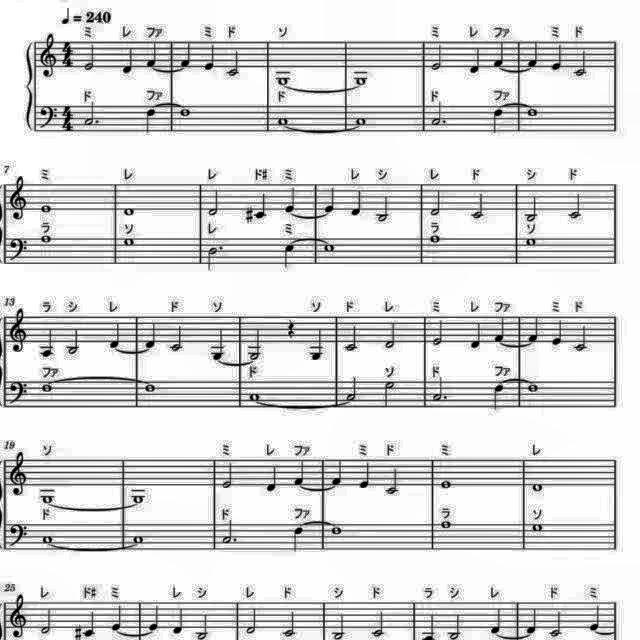Bass-clef: (6, 520, 30, 550), (6, 236, 30, 264), (7, 378, 30, 407), (36, 102, 59, 130)
Diez: (242, 204, 254, 224), (71, 622, 83, 640)
Full-note: (37, 377, 54, 395), (351, 71, 369, 87), (140, 380, 158, 396), (128, 491, 148, 505), (38, 492, 58, 504), (37, 202, 54, 216), (439, 478, 455, 492), (529, 481, 545, 495), (320, 240, 336, 254), (176, 105, 192, 119), (523, 235, 539, 249), (524, 105, 540, 119), (439, 518, 455, 532), (275, 74, 293, 86), (130, 532, 148, 544), (38, 532, 56, 544), (329, 524, 346, 536), (524, 382, 540, 394), (122, 206, 138, 218), (275, 114, 291, 126), (37, 232, 53, 244), (246, 390, 262, 402), (530, 522, 546, 534), (352, 114, 368, 126), (122, 236, 138, 248), (426, 234, 442, 246)
Half-dot: (204, 245, 226, 275), (428, 98, 448, 130), (219, 518, 239, 546), (431, 376, 449, 404), (82, 98, 98, 126)
Half-note: (469, 190, 489, 222), (246, 328, 264, 362), (564, 191, 584, 221), (374, 193, 394, 223), (383, 466, 401, 498), (370, 608, 388, 640), (37, 606, 54, 638), (523, 193, 541, 223), (168, 325, 186, 355), (343, 323, 361, 353), (428, 42, 444, 74), (84, 42, 100, 74), (331, 612, 349, 640), (280, 244, 298, 272), (380, 321, 396, 352), (206, 188, 222, 218), (548, 609, 564, 639), (220, 459, 236, 489), (244, 607, 260, 637), (382, 379, 398, 409), (572, 325, 588, 355), (428, 188, 444, 218), (344, 374, 361, 402), (225, 50, 242, 78), (66, 326, 82, 354), (430, 320, 446, 348), (572, 50, 588, 78), (196, 612, 212, 640), (448, 612, 464, 640), (282, 610, 298, 638), (490, 108, 506, 136)
Quarter-note: (307, 327, 327, 363), (208, 328, 228, 360), (36, 328, 56, 360), (254, 190, 272, 222), (488, 605, 506, 635), (588, 604, 604, 636), (202, 40, 218, 72), (550, 40, 566, 72), (83, 608, 99, 640), (119, 44, 135, 76), (348, 186, 364, 218), (266, 462, 282, 493), (108, 604, 124, 634), (524, 608, 540, 638), (356, 461, 372, 491), (526, 315, 542, 345), (282, 185, 298, 215), (170, 606, 186, 636), (470, 323, 486, 353), (146, 603, 162, 633), (178, 41, 194, 71), (109, 321, 125, 351), (322, 185, 338, 215), (330, 456, 346, 486), (290, 526, 306, 556), (490, 383, 506, 413), (142, 106, 158, 136), (142, 322, 158, 351), (144, 40, 160, 68), (492, 316, 508, 344), (292, 462, 308, 490), (551, 317, 565, 347), (470, 47, 484, 77), (492, 41, 506, 70), (526, 41, 540, 70)
Quarter-rest: (283, 316, 297, 340)
Treble-clef: (6, 449, 32, 499), (6, 306, 32, 354), (6, 175, 30, 225), (7, 592, 30, 640), (37, 30, 59, 78)
